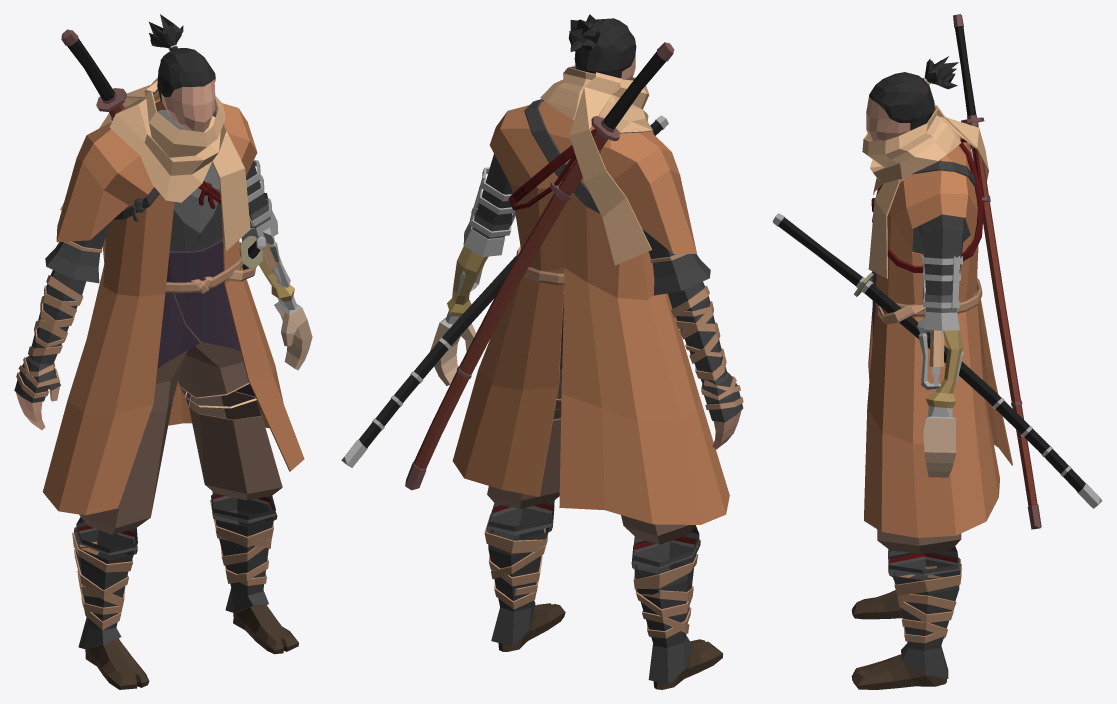
Rendered from Sekiro_ 2_8.fbx.
3 renders of one model, left to right at view 1: azimuth 30°, elevation 25°; view 2: azimuth 150°, elevation 25°; view 3: azimuth 270°, elevation 25°, orthographic. The views are drawn at different scales.
Visible parts, largest first — view 1: Plane, Legs, Scarf, Jacket, Prosthetic, Arm, Cylinder.002, Cube.004, Cube.003, Cylinder.004, Sword.002, Hand (+5 smaller); view 2: Plane, Legs, Scarf, Sword.002, Arm, Prosthetic, Cylinder.002, Sword.000, Cube.004, Cube.003, Cylinder.004, Hand (+4 smaller); view 3: Plane, Prosthetic, Scarf, Legs, Sword.000, Sword.002, Cube.004, Cube.003, Cylinder.002, Arm, Cube.006, Cube.002 (+2 smaller).
Boxes of the visible parts, x1,y1,x2,y2 form: Plane: [43, 98, 304, 515]; Legs: [74, 342, 282, 648]; Scarf: [60, 77, 250, 251]; Jacket: [157, 110, 240, 368]; Prosthetic: [241, 160, 312, 370]; Arm: [29, 161, 266, 364]; Cylinder.002: [72, 500, 273, 629]; Cube.004: [157, 45, 215, 132]; Cube.003: [85, 605, 298, 689]; Cylinder.004: [28, 275, 83, 356]; Sword.002: [61, 29, 127, 120]; Hand: [14, 355, 60, 429]; Plane: [452, 101, 729, 524]; Legs: [486, 348, 700, 684]; Scarf: [540, 65, 653, 265]; Sword.002: [405, 42, 674, 490]; Arm: [476, 154, 726, 383]; Prosthetic: [430, 167, 515, 385]; Cylinder.002: [484, 513, 698, 638]; Sword.000: [341, 115, 668, 467]; Cube.004: [574, 18, 636, 80]; Cube.003: [498, 603, 723, 689]; Cylinder.004: [671, 286, 726, 381]; Hand: [702, 372, 743, 449]; Plane: [864, 135, 1012, 537]; Prosthetic: [917, 251, 963, 477]; Scarf: [862, 105, 988, 278]; Legs: [877, 529, 961, 678]; Sword.000: [772, 213, 1102, 508]; Sword.002: [953, 14, 1041, 529]; Cube.004: [866, 72, 934, 141]; Cube.003: [851, 590, 946, 689]; Cylinder.002: [894, 564, 961, 643]; Arm: [918, 214, 965, 295]; Cube.006: [871, 138, 984, 272]; Cube.002: [870, 278, 982, 324].
Bounding box in the file's own units: 89.66 × 182 × 92.07.
